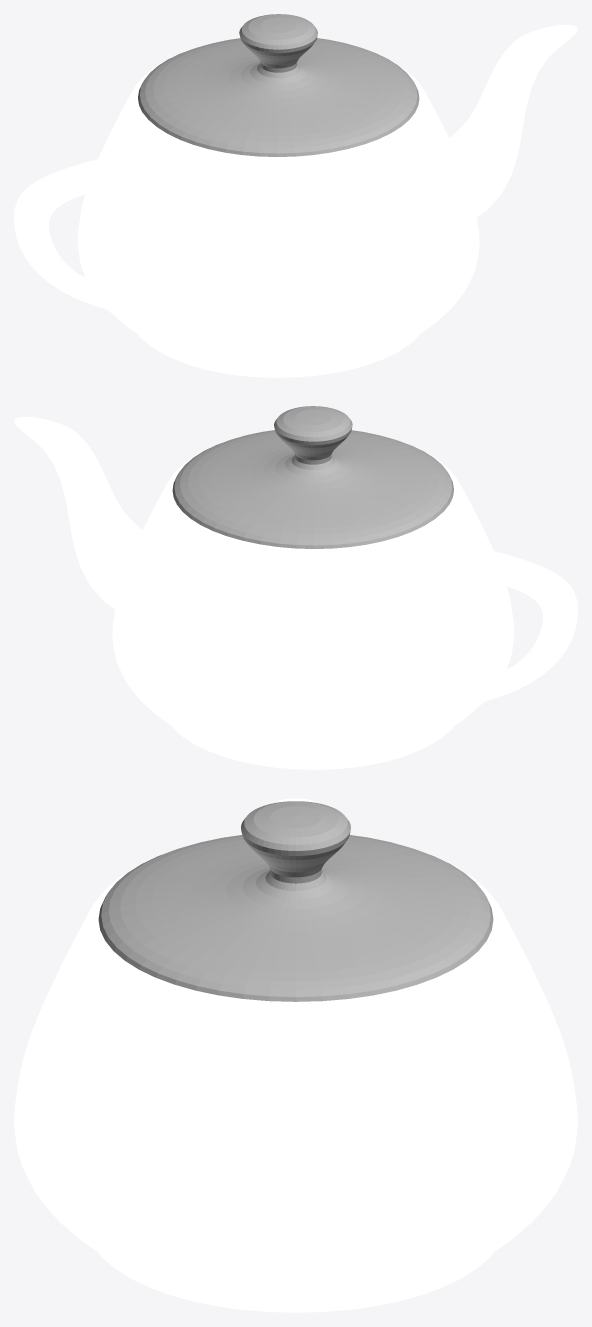
File: UtahTeapot.gltf
The picture shows the model from 3 angles, top to bottom: view 1: azimuth 30°, elevation 25°; view 2: azimuth 150°, elevation 25°; view 3: azimuth 270°, elevation 25°; orthographic projection. The views are drawn at different scales.
Parts seen in each view (by area): view 1: teapot:Base, polySurface1; view 2: teapot:Base, polySurface1; view 3: teapot:Base, polySurface1.
Boxes of the visible parts, x1,y1,x2,y2 form: teapot:Base: [14, 24, 577, 377]; polySurface1: [138, 14, 419, 156]; teapot:Base: [14, 416, 577, 769]; polySurface1: [172, 406, 453, 548]; teapot:Base: [14, 798, 577, 1312]; polySurface1: [98, 801, 493, 1001].
Size of the model in its own units: 0.255 by 0.1307 by 0.1585.
Materials: 2 (1 with a texture image).
